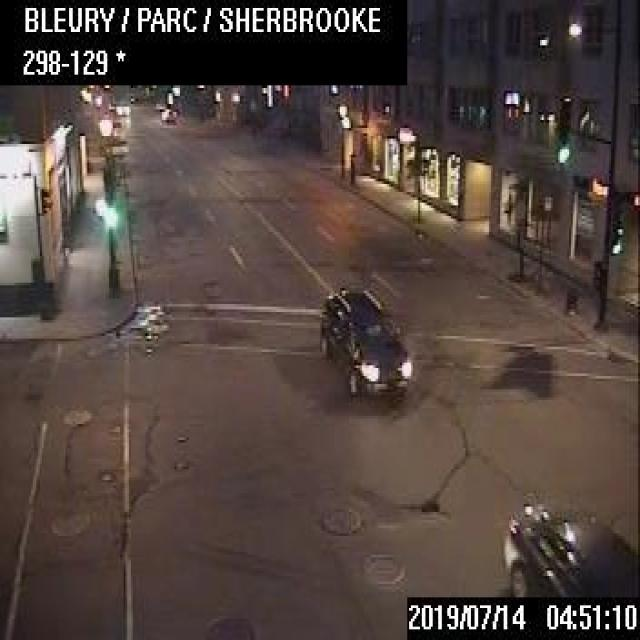vehicle: (500, 502, 638, 595), (316, 285, 409, 403), (160, 106, 174, 121)
